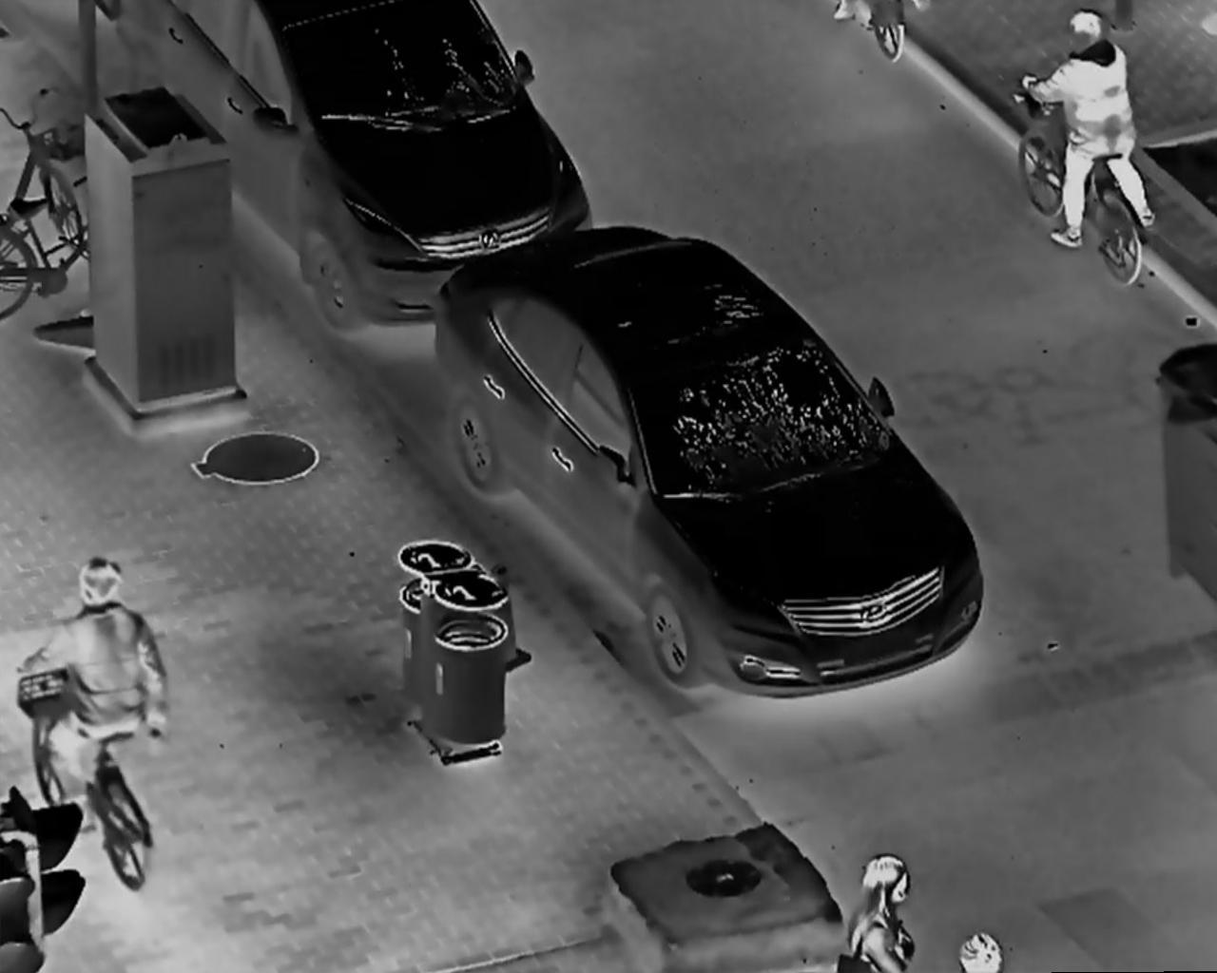person: (14, 555, 170, 836), (1016, 10, 1160, 255)
